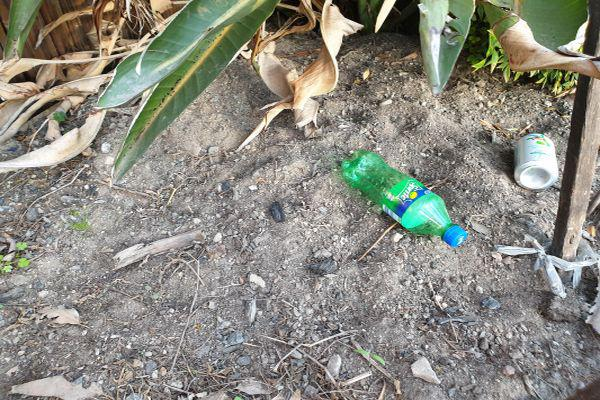Plastic Bottle: (340, 149, 468, 249), (512, 133, 560, 193)
